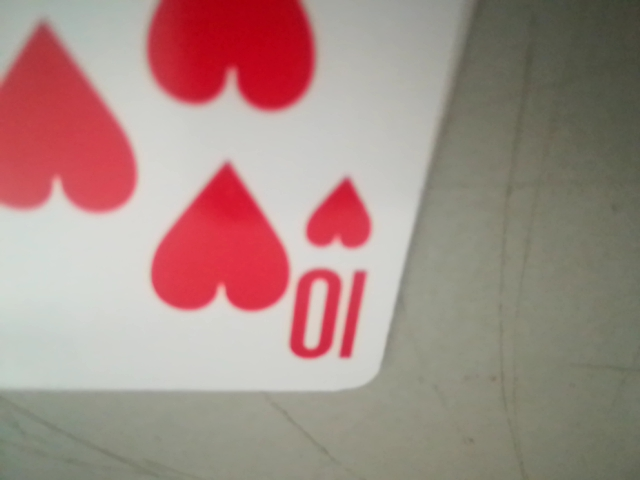hx 10: (284, 172, 399, 369)
